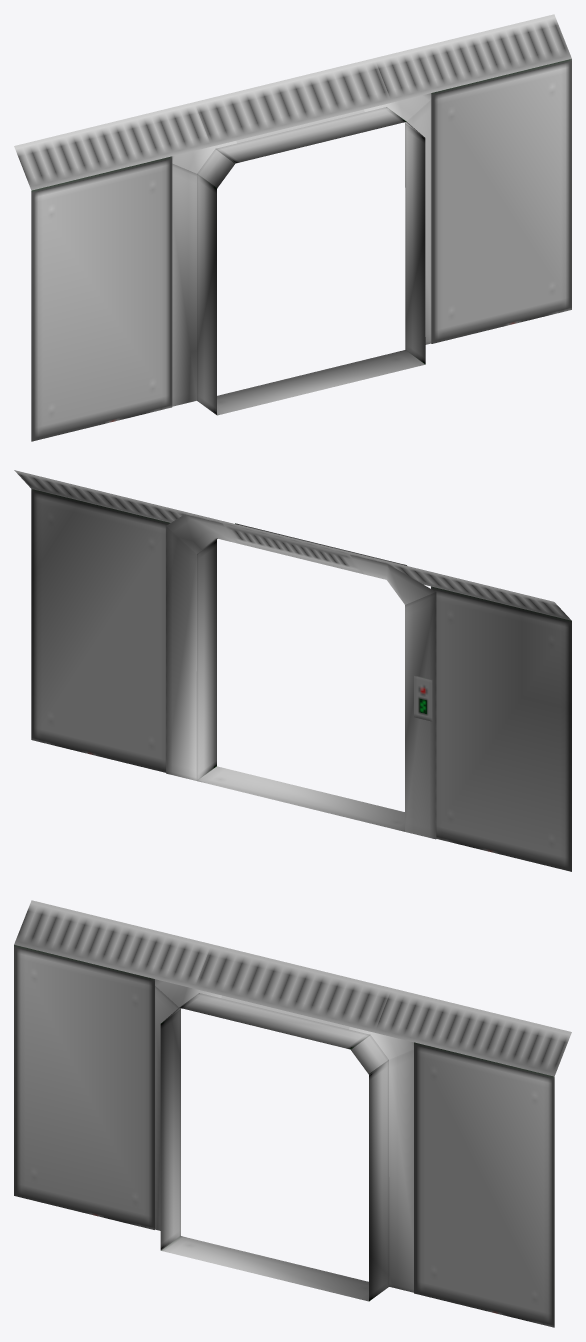
File: room_1_wall_door.fbx
The picture shows the model from 3 angles, top to bottom: view 1: azimuth 30°, elevation 25°; view 2: azimuth 150°, elevation 25°; view 3: azimuth 330°, elevation 25°; orthographic projection.
Parts seen in each view (by area): view 1: Cube_016; view 2: Cube_016; view 3: Cube_016.
Boxes of the visible parts, box(x1,y1,x2,y2) form: Cube_016: box(14, 14, 571, 441); Cube_016: box(14, 470, 571, 871); Cube_016: box(14, 900, 571, 1327).
Bounding box in the file's own units: 16 × 8 × 1.9.
